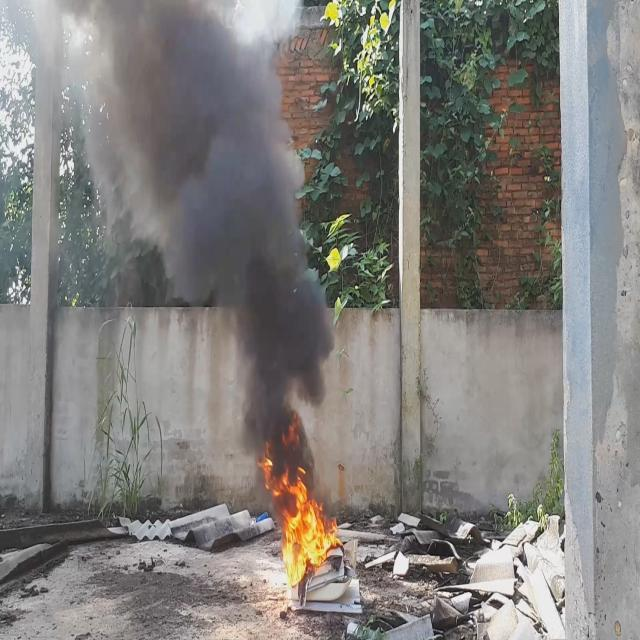Fire: (262, 444, 341, 584)
Smoke: (0, 0, 336, 498)
